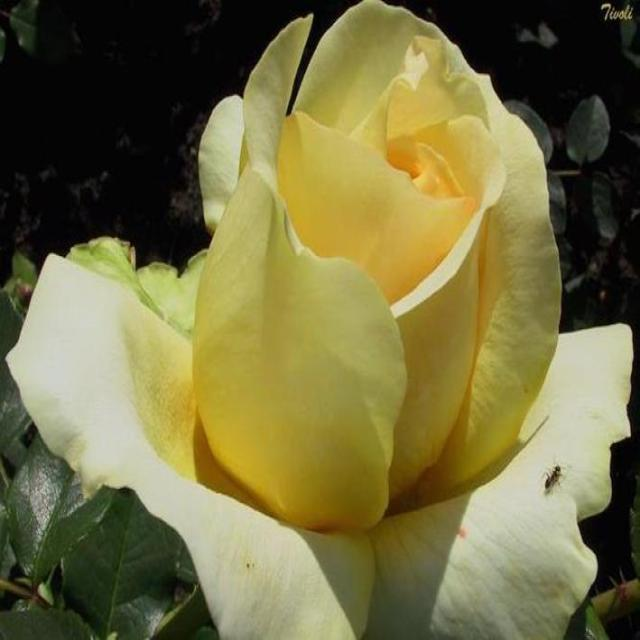rose: (19, 0, 631, 621)
